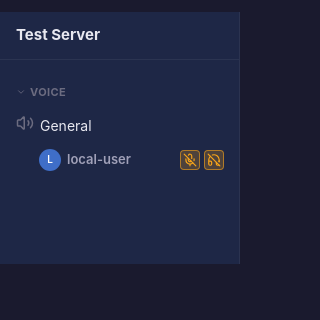
ChannelSidebar voice media presence › does not offer self-undeafen without deafen permission
Right-click the button with aria-label "local-user in voice".
right_click(132, 160)  # box [32,146,231,174]
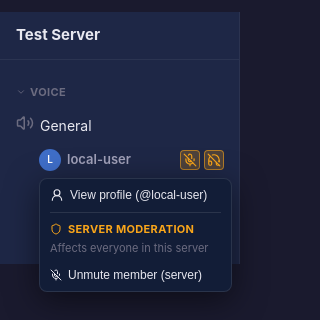
Result: the button "Unmute member (server)" is shown at [40,262,231,288]
